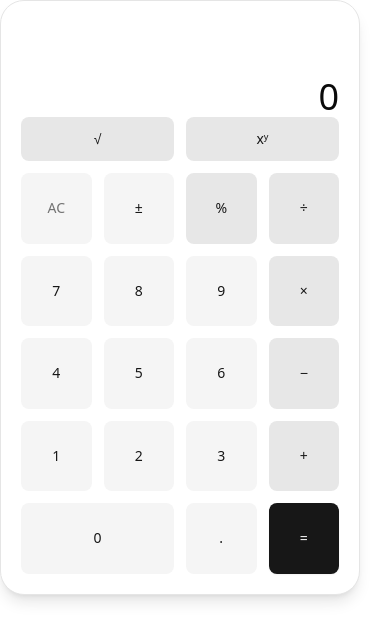
Test: Calculator › T-1: binary path posts exactly one request and renders the server value
The width and height of the screenshot is (377, 621).
Click the button "1".
click(56, 456)  # box top-left (21, 420), bottom-right (92, 491)
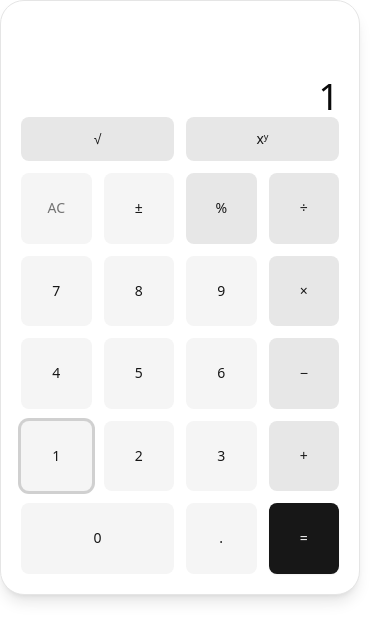
Click the button "2".
click(139, 456)  # box top-left (104, 420), bottom-right (174, 491)
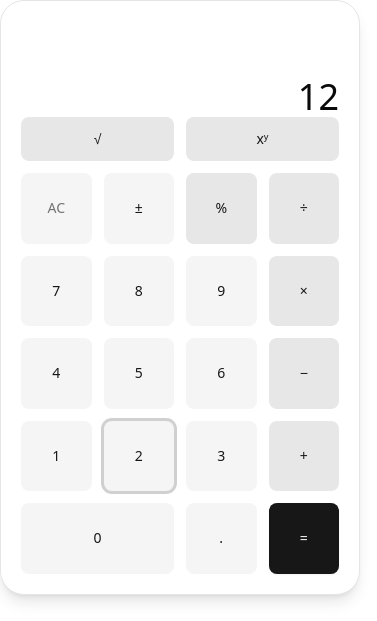
Click the button named "multiply".
click(304, 291)  # box top-left (268, 256), bottom-right (339, 326)
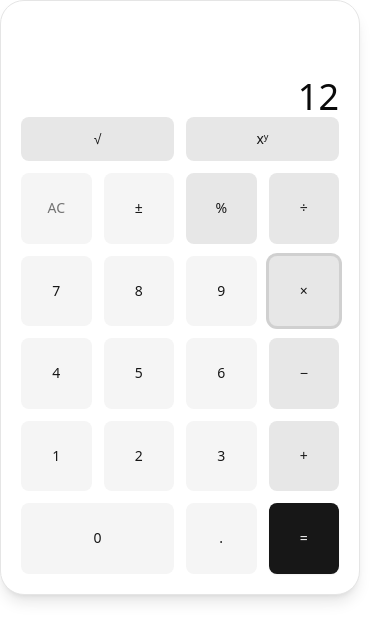
Click the button "4".
click(56, 373)  # box top-left (21, 338), bottom-right (92, 408)
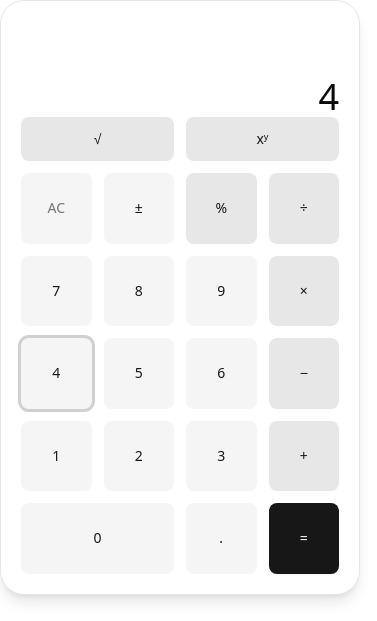
Click the button named "equals".
click(304, 538)  # box top-left (268, 503), bottom-right (339, 574)
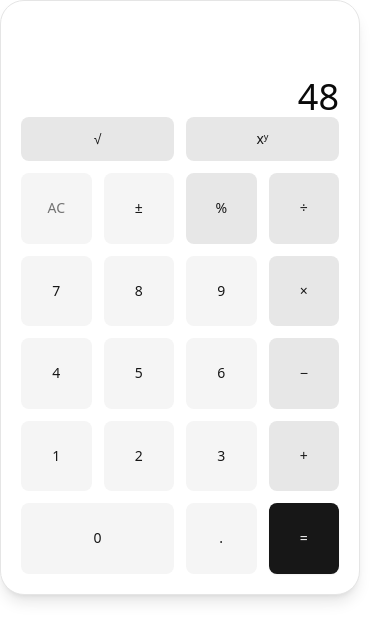
Result: the text with test id "calculator-display" reads "48" at top-left (298, 72), bottom-right (339, 121)
